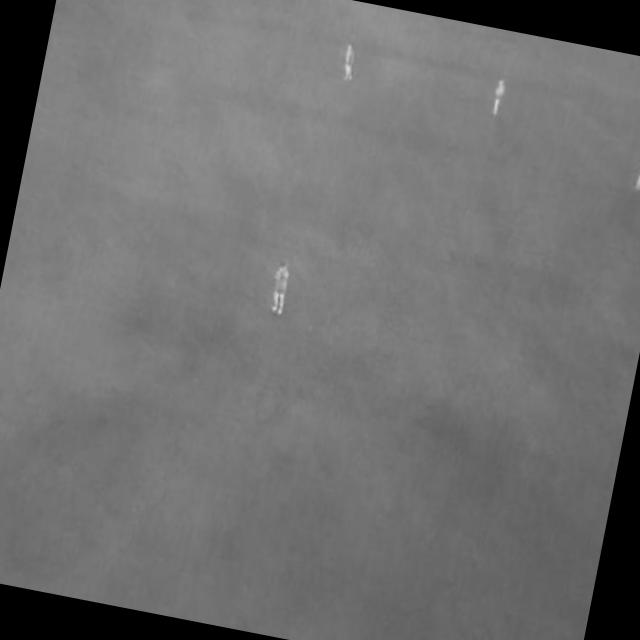person: (266, 260, 294, 320), (338, 44, 361, 86), (490, 79, 509, 121), (631, 147, 640, 197)
